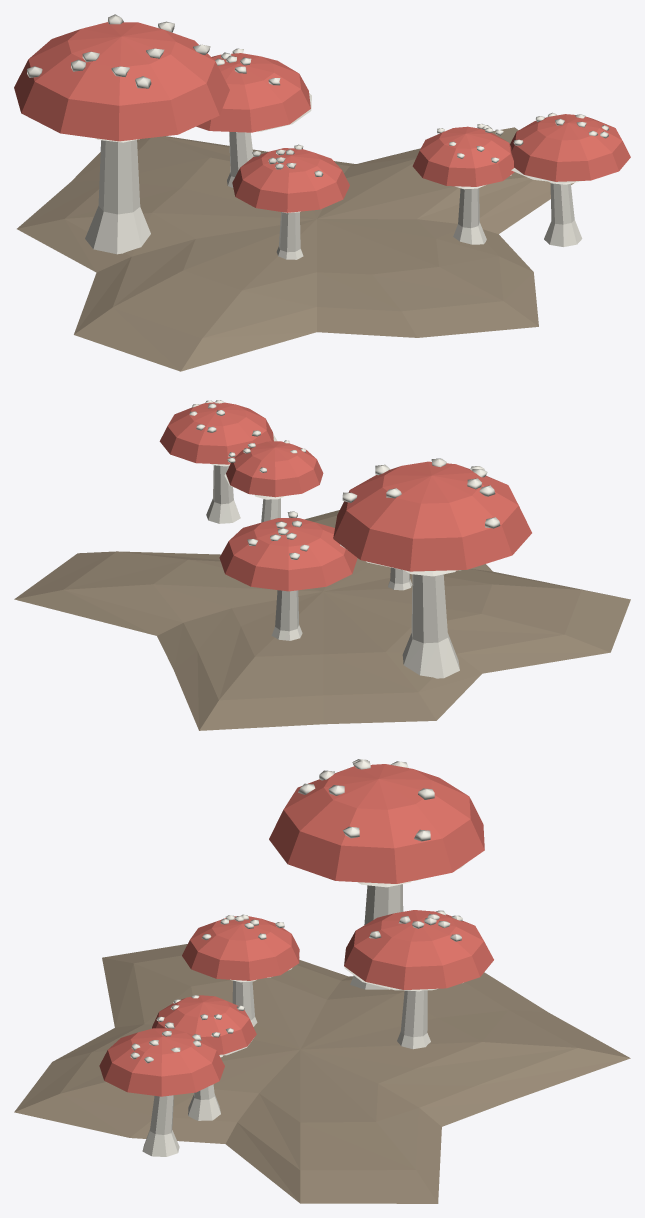
The model's file is dense-temperate-forest-flora-fly-agaric-group-32cf290c__28406.glb.
The picture shows the model from 3 angles, top to bottom: view 1: azimuth 30°, elevation 25°; view 2: azimuth 150°, elevation 25°; view 3: azimuth 270°, elevation 25°; orthographic projection. The views are drawn at different scales.
Parts seen in each view (by area): view 1: fly-agaric-group; view 2: fly-agaric-group; view 3: fly-agaric-group.
Part boxes in pixels (x1,y1,x2,y2): fly-agaric-group: (14,14,630,371); fly-agaric-group: (14,400,630,730); fly-agaric-group: (14,759,630,1203).
Size of the model in its own units: 0.6356 by 0.2409 by 0.6204.
